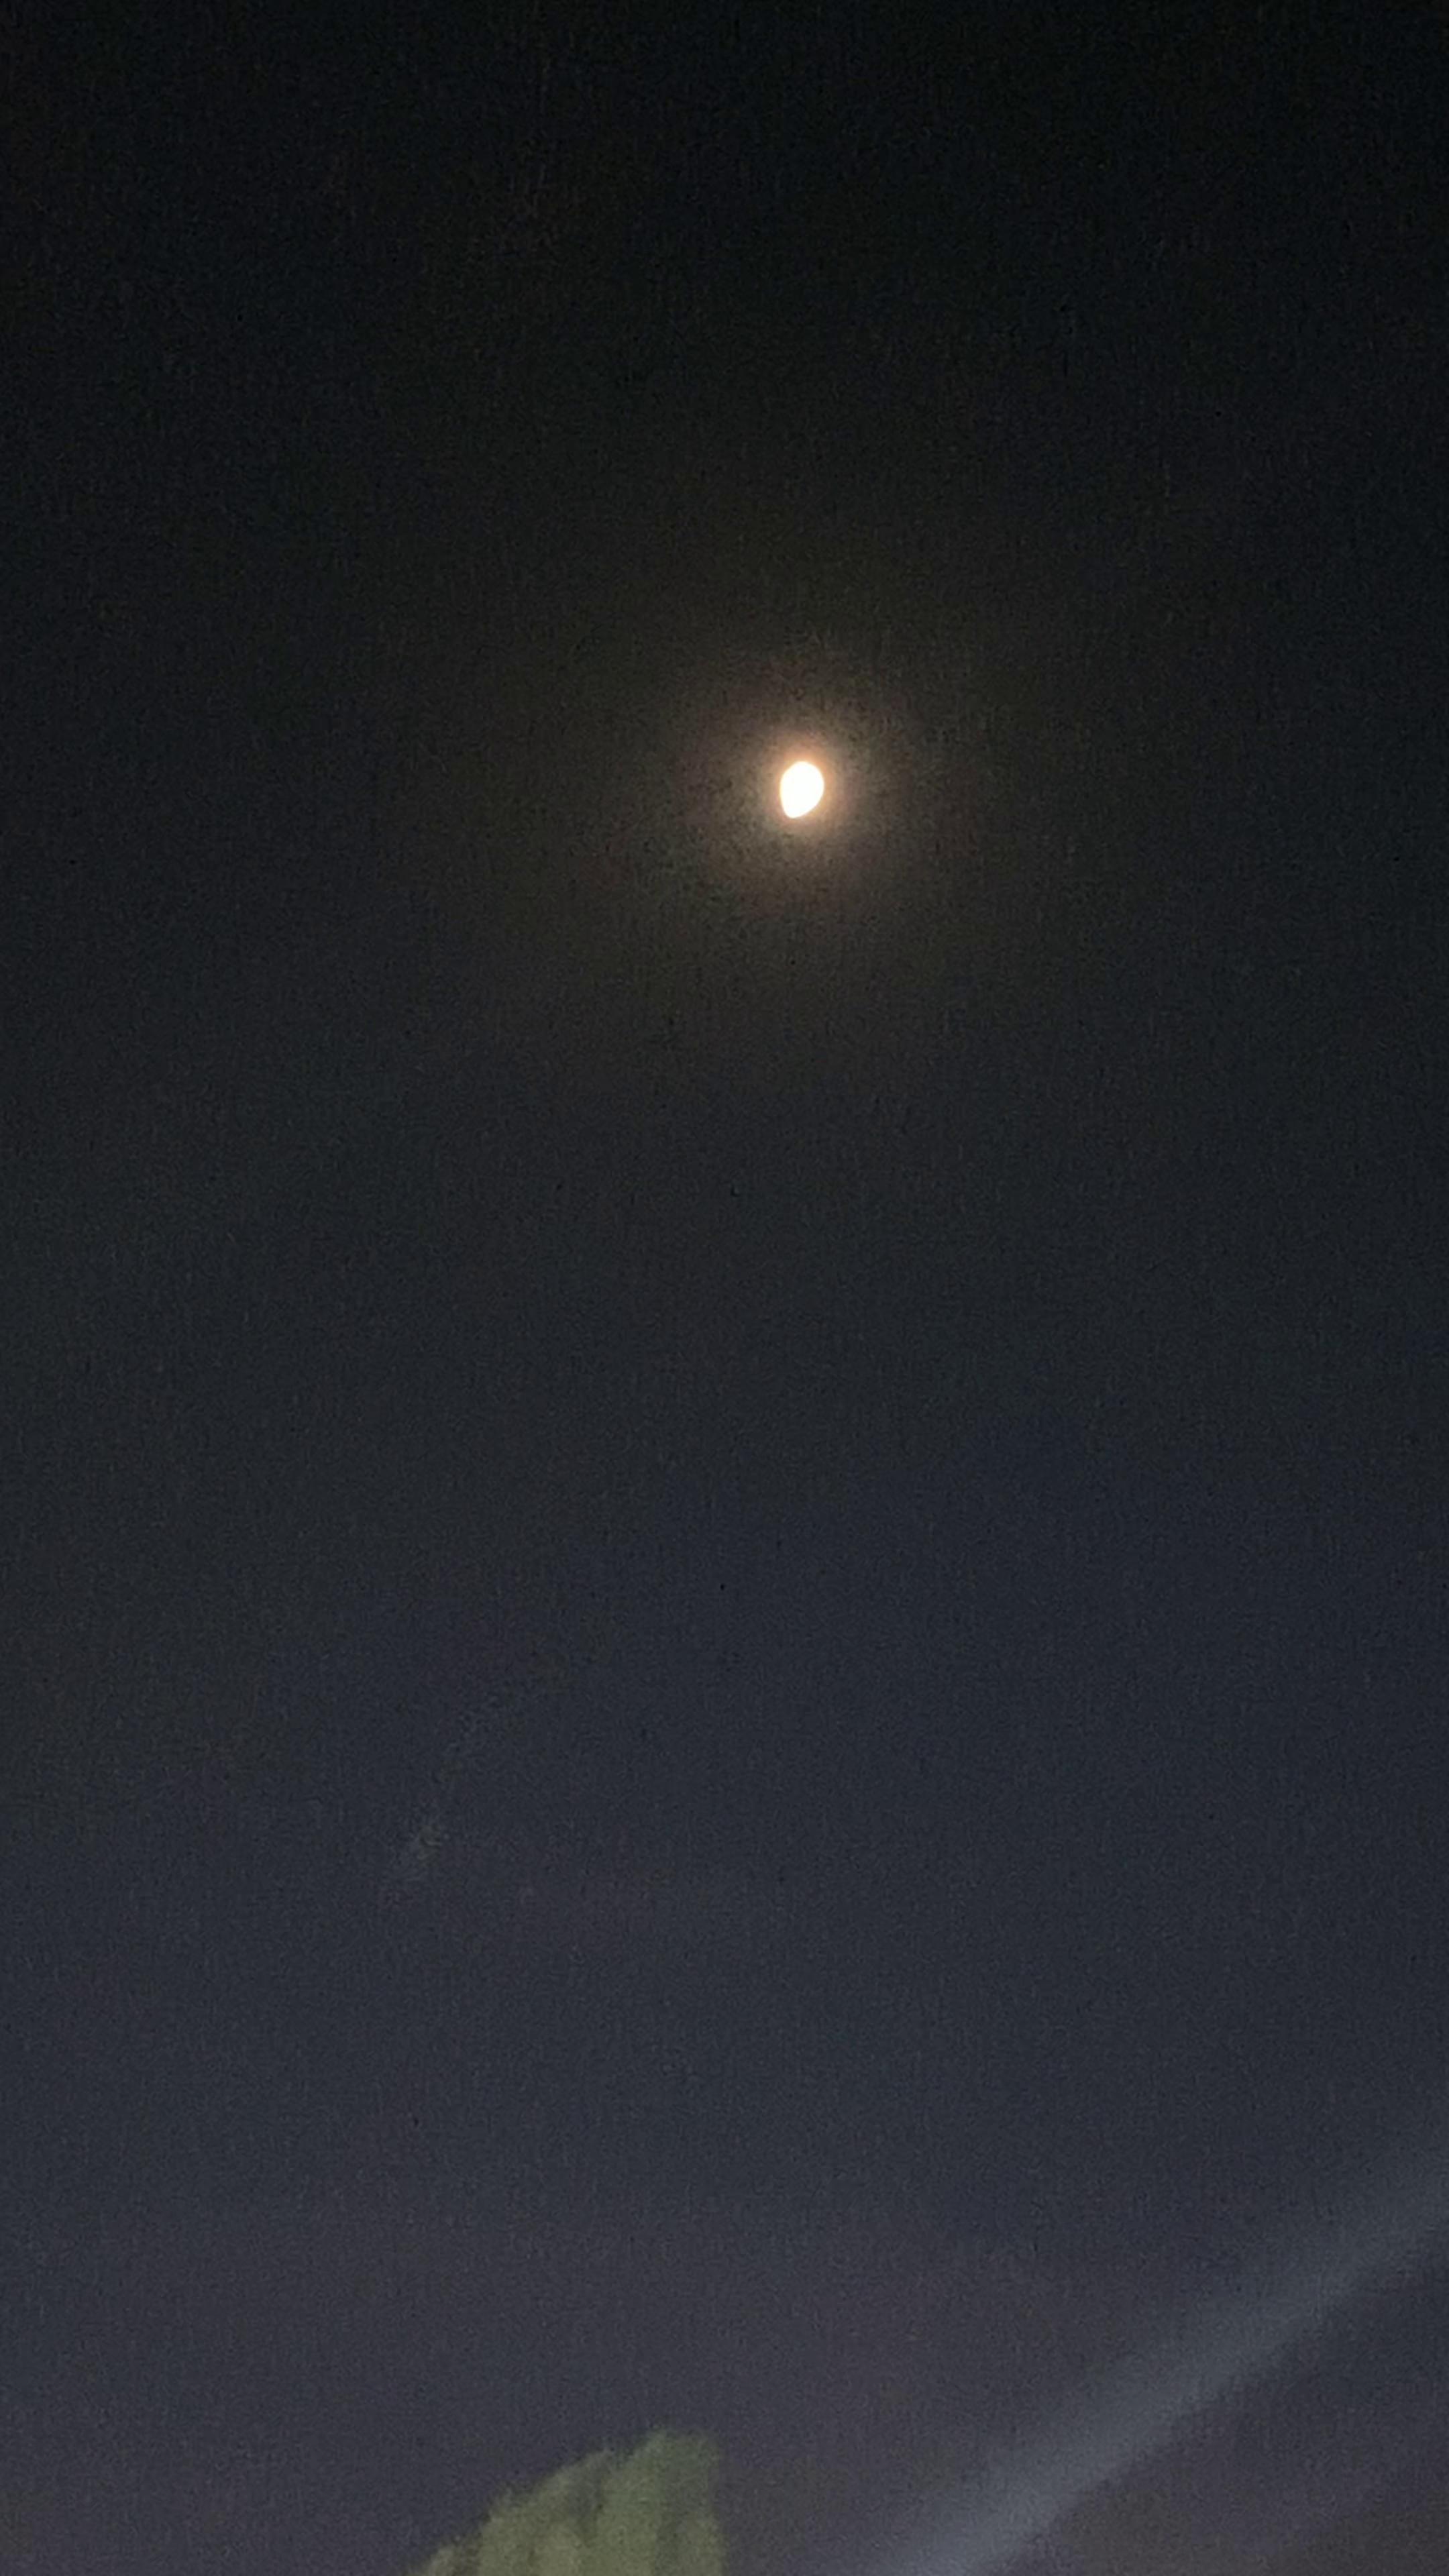moon: (754, 713, 872, 842)
